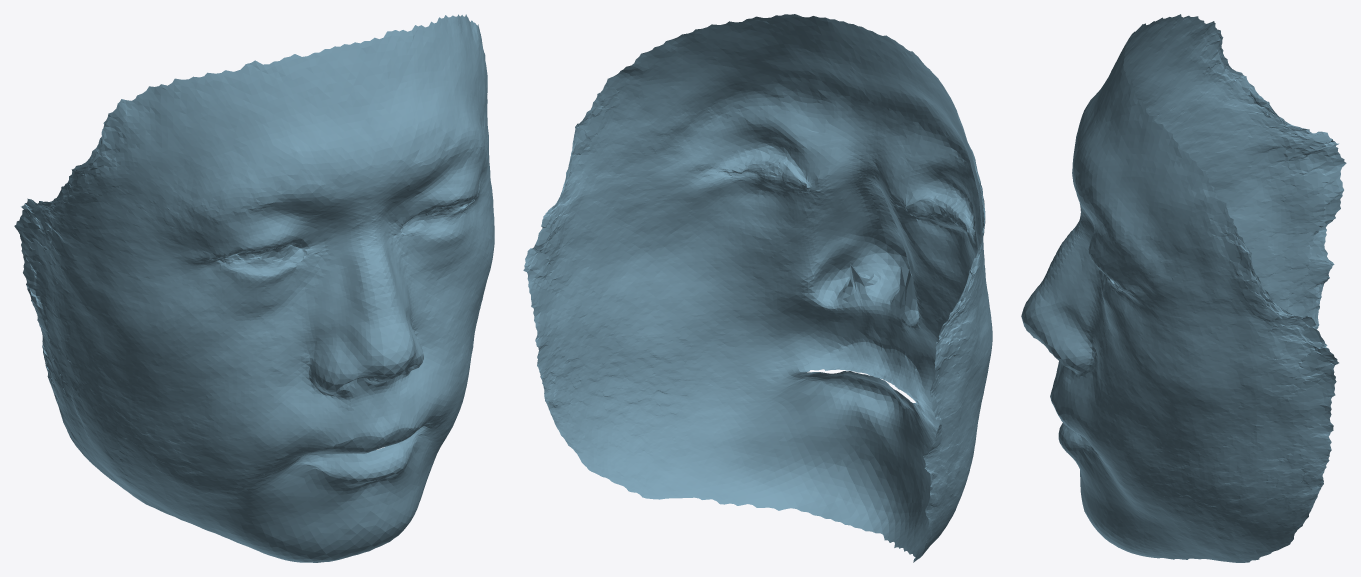
The picture shows the model from 3 angles, left to right: view 1: azimuth 30°, elevation 25°; view 2: azimuth 150°, elevation 25°; view 3: azimuth 270°, elevation 25°; orthographic projection. The views are drawn at different scales.
Bounding box in the file's own units: 1.47 × 1.69 × 1.04.
